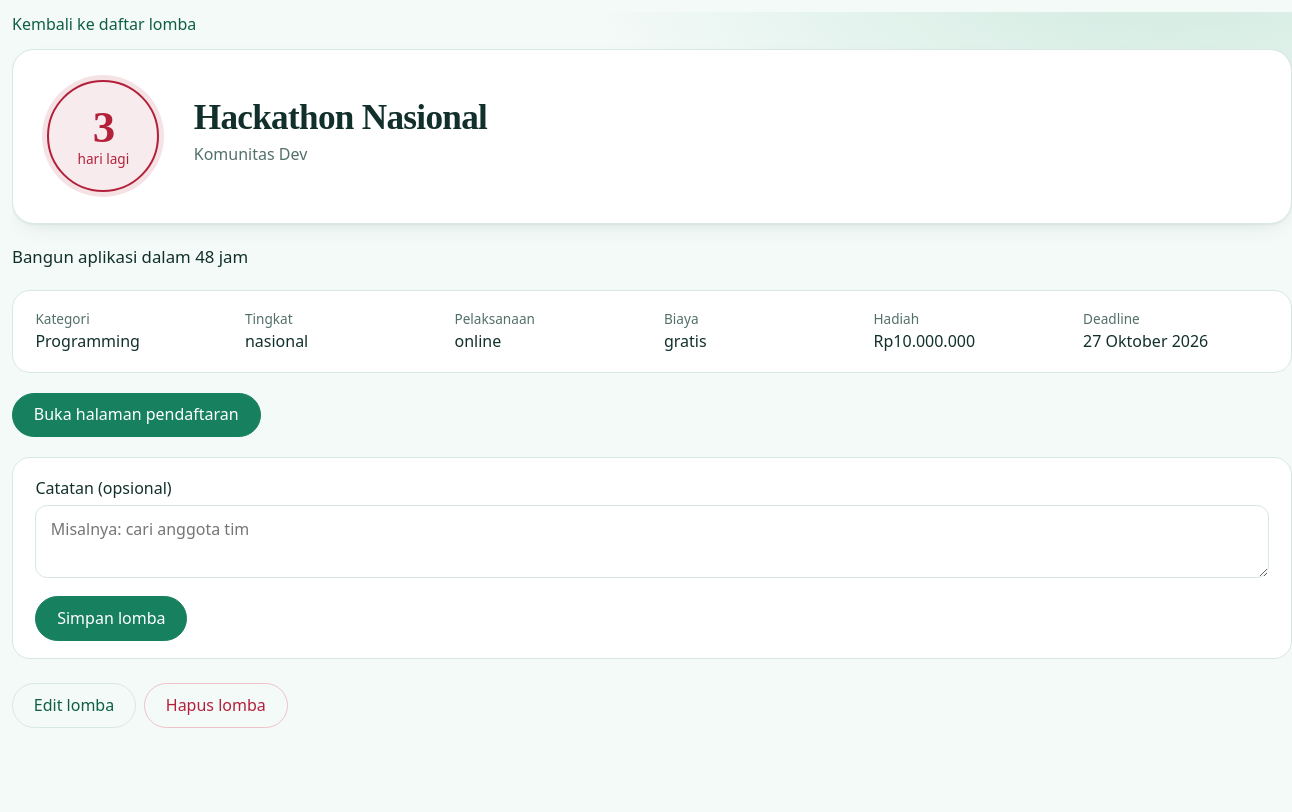
Test case: Detail lomba › tombol kelola (edit/hapus) › hapus yang ditolak server menampilkan error
Step 1. Click the button "Hapus lomba" → (216, 706), box [144,683,288,728]
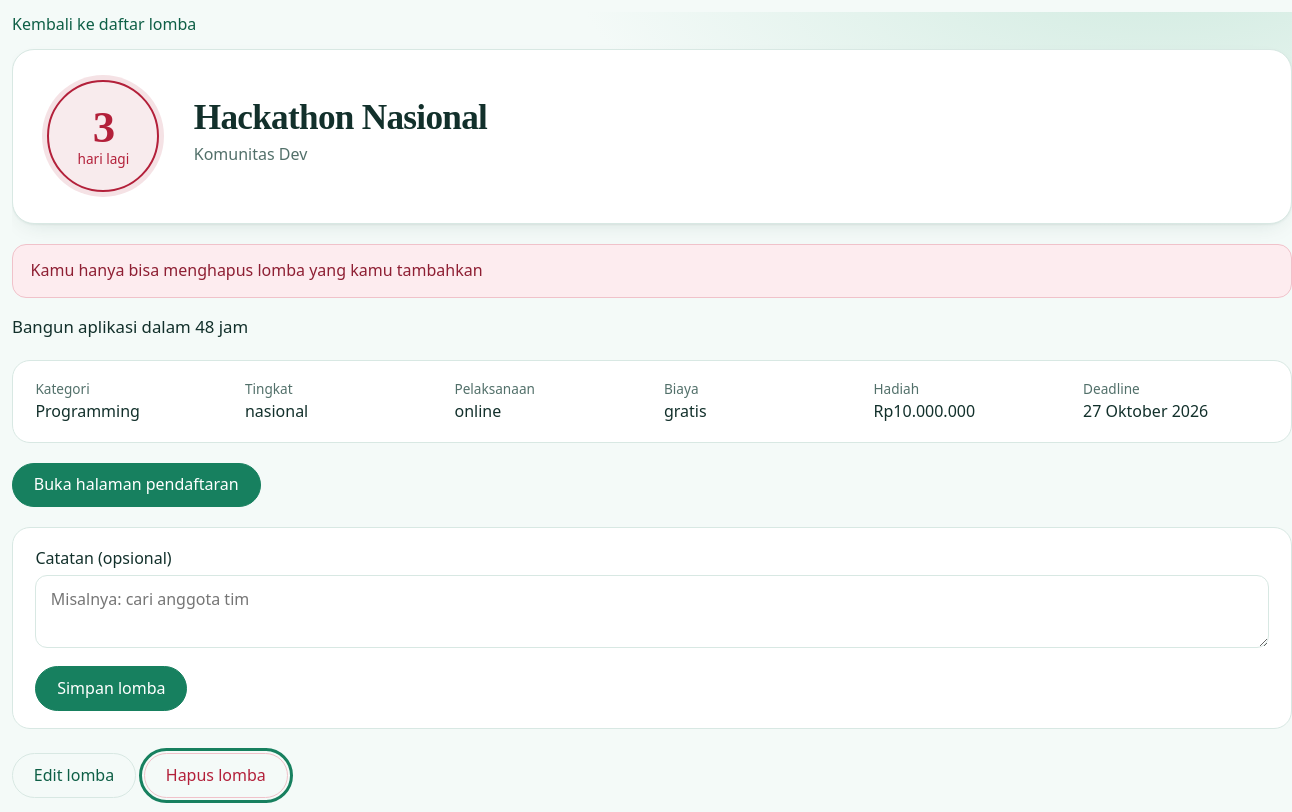
Expected: the message shows "Kamu hanya bisa menghapus", [31,259,483,281]
